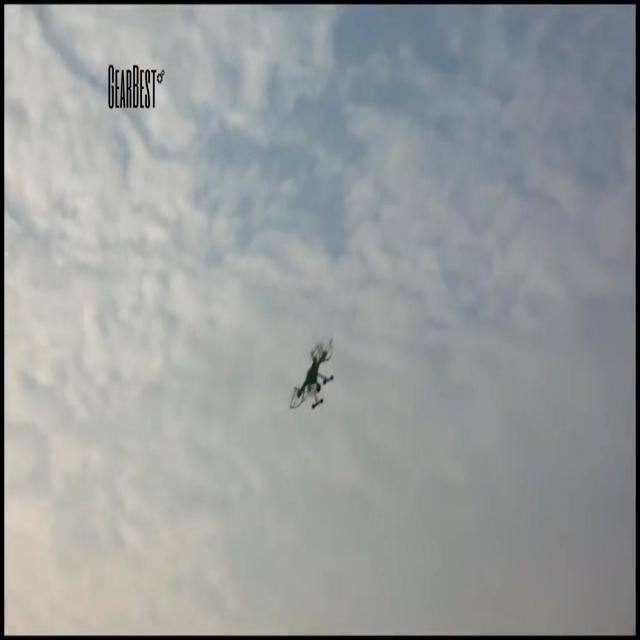UAV: (290, 338, 334, 409)
